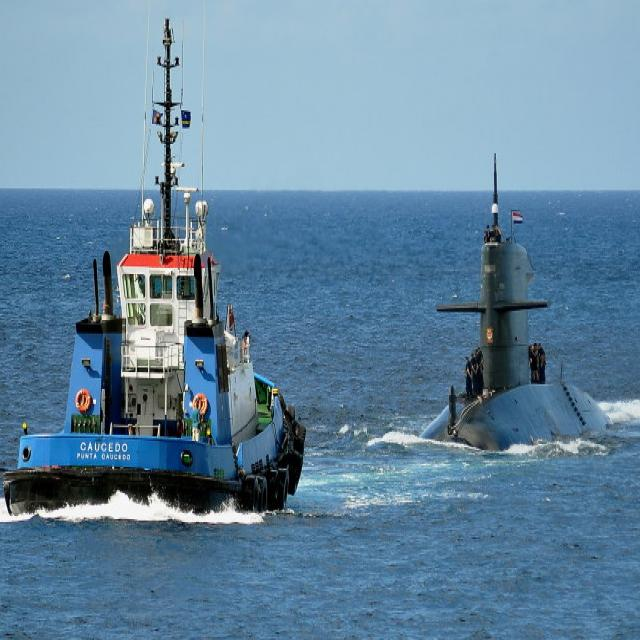submarine: (405, 147, 640, 461)
